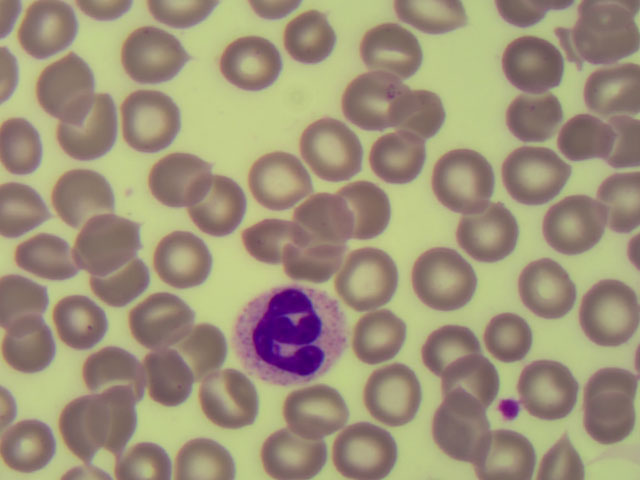Platelets: (495, 396, 522, 422)
RBC: (116, 427, 174, 480), (171, 427, 229, 480), (473, 427, 531, 480), (527, 427, 585, 480), (19, 3, 77, 55), (37, 62, 95, 114), (59, 99, 117, 151), (122, 93, 180, 145), (122, 31, 180, 83), (219, 34, 277, 86), (284, 10, 342, 62), (366, 21, 424, 73), (336, 71, 394, 123), (388, 92, 446, 144), (371, 130, 429, 182), (290, 122, 348, 174), (249, 156, 307, 208), (186, 183, 244, 235), (146, 151, 204, 203), (77, 211, 135, 263), (49, 166, 107, 218), (24, 228, 82, 280), (45, 289, 103, 341), (2, 321, 60, 373), (83, 254, 141, 306), (127, 293, 185, 345), (154, 233, 212, 285), (177, 325, 235, 377), (140, 346, 198, 398), (89, 343, 147, 395), (94, 394, 152, 446), (50, 399, 108, 451), (6, 415, 64, 467), (200, 370, 258, 422), (286, 380, 344, 432), (265, 421, 323, 473), (327, 424, 385, 476), (366, 368, 424, 420), (347, 309, 405, 361), (341, 250, 399, 302), (281, 230, 339, 282), (238, 217, 296, 269), (287, 194, 345, 246), (320, 181, 378, 233), (434, 157, 492, 209), (465, 199, 523, 251), (417, 251, 475, 303), (422, 318, 480, 370), (439, 354, 497, 406), (426, 403, 484, 455), (520, 363, 578, 415), (480, 310, 538, 362), (515, 260, 573, 312), (582, 284, 640, 336), (581, 355, 639, 407), (582, 393, 640, 445), (544, 205, 602, 257), (505, 155, 563, 207), (498, 94, 556, 146), (545, 109, 603, 161), (582, 65, 640, 117), (505, 38, 563, 90), (581, 7, 639, 59), (1, 279, 58, 331)
WBC: (239, 284, 346, 383)
